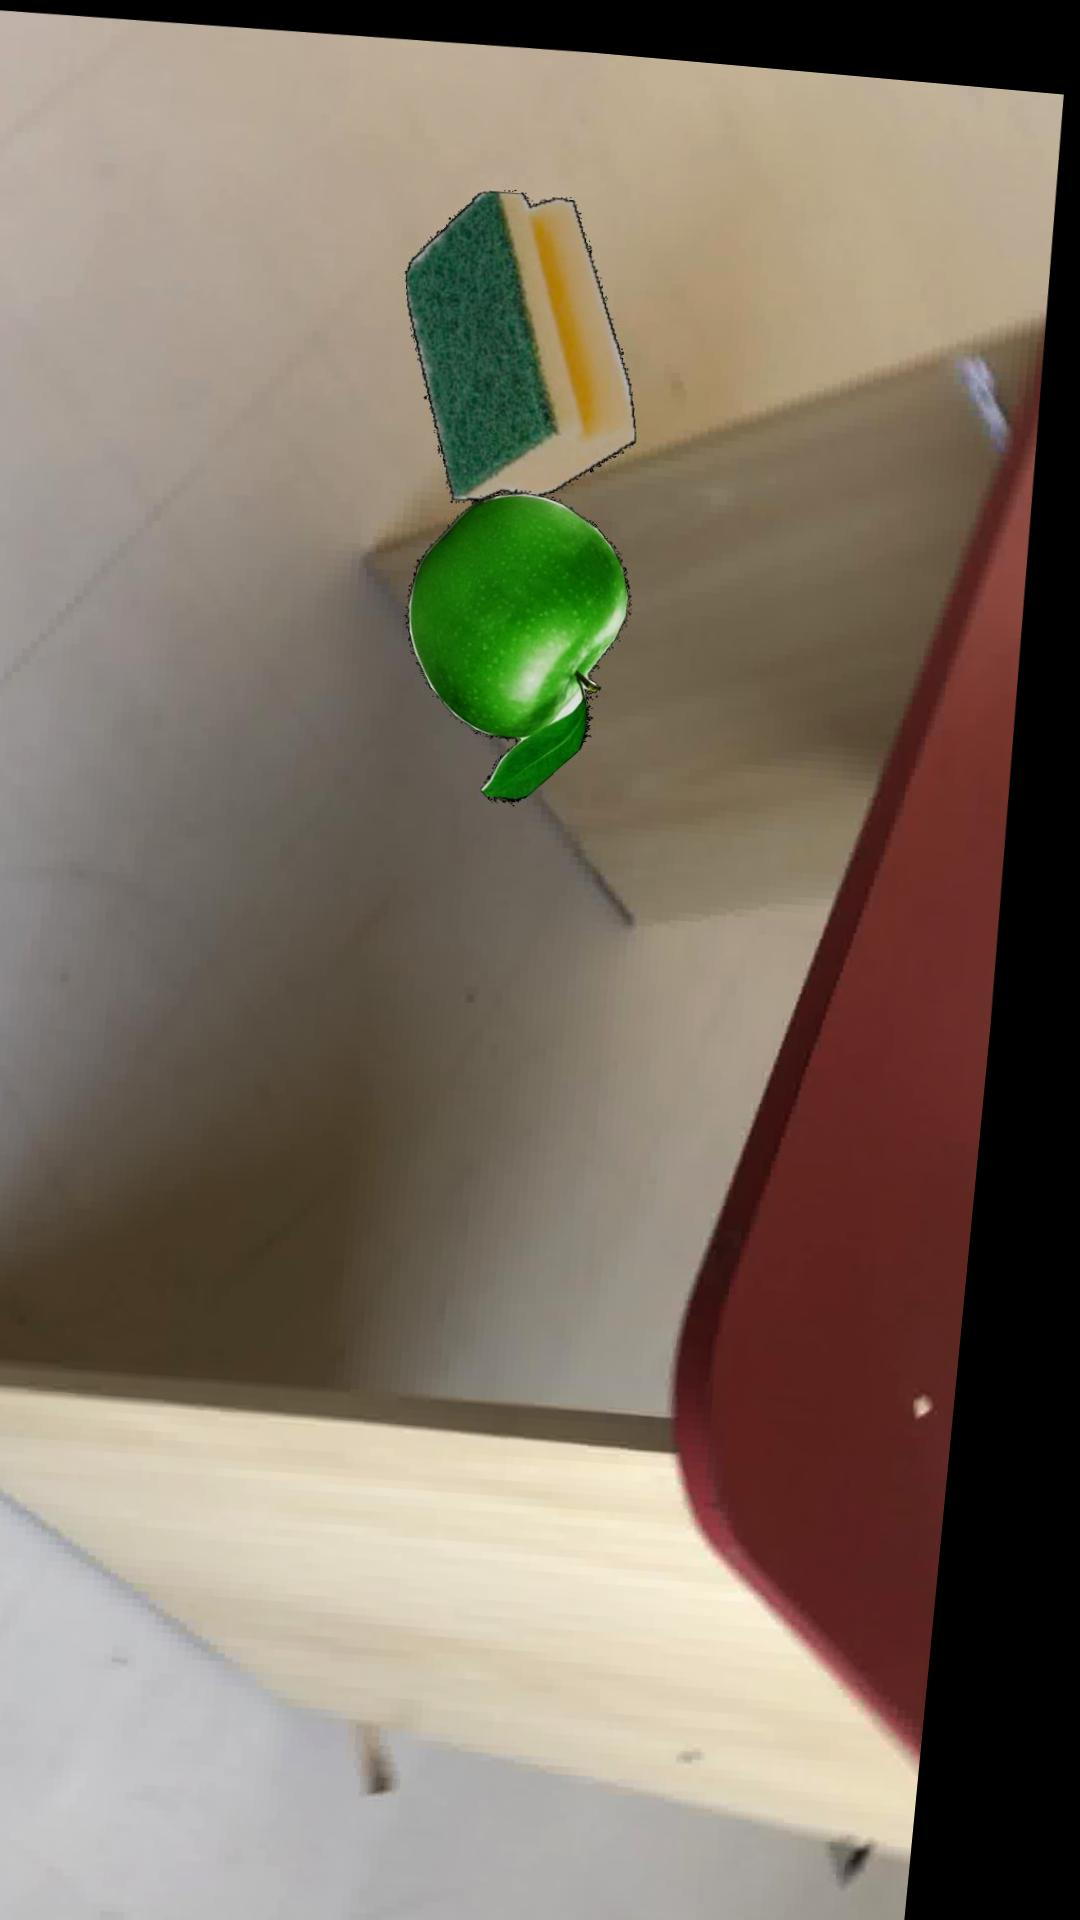green apple: (415, 476, 640, 789)
sponge: (407, 179, 641, 489)
